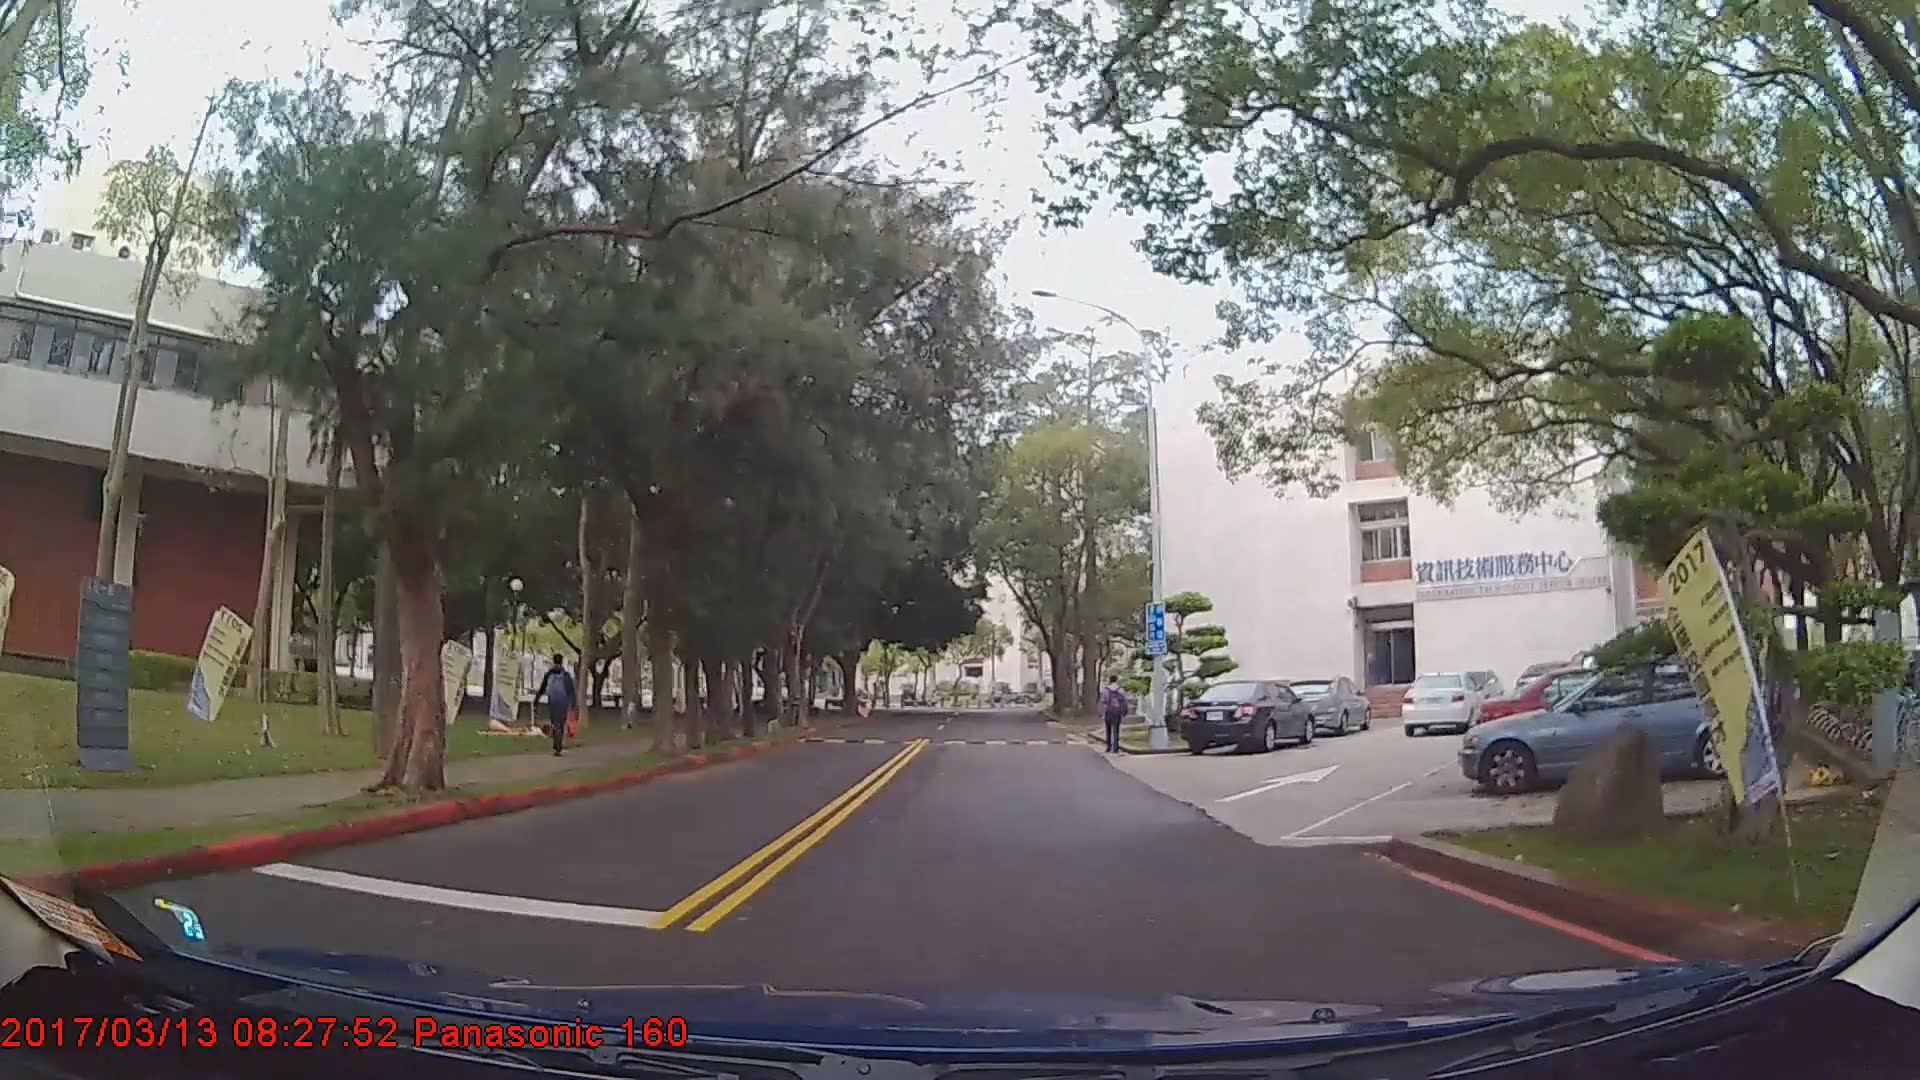pedestrian: (539, 654, 576, 759), (1099, 675, 1128, 755)
vehicle: (1460, 657, 1778, 795), (1179, 678, 1317, 756), (1396, 670, 1481, 737), (1284, 675, 1373, 736)
